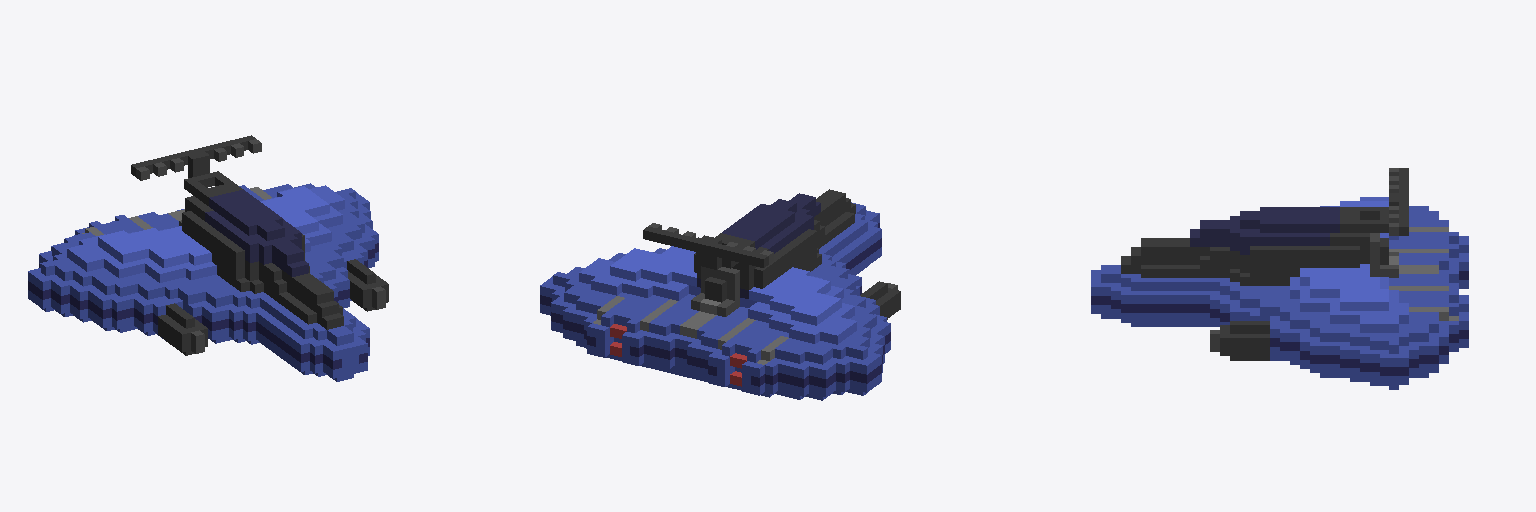
The picture shows the model from 3 angles: view 1: azimuth 30°, elevation 25°; view 2: azimuth 150°, elevation 25°; view 3: azimuth 270°, elevation 25°; orthographic projection.
Visible parts, largest first — view 1: object 1; view 2: object 1; view 3: object 1.
Part boxes in pixels (x1,y1,x2,y2): object 1: (28, 135, 388, 381); object 1: (540, 189, 900, 400); object 1: (1091, 168, 1468, 389).
Size of the model in its own units: 3.8 by 1.3 by 3.8.
Materials: 1 (1 with a texture image).